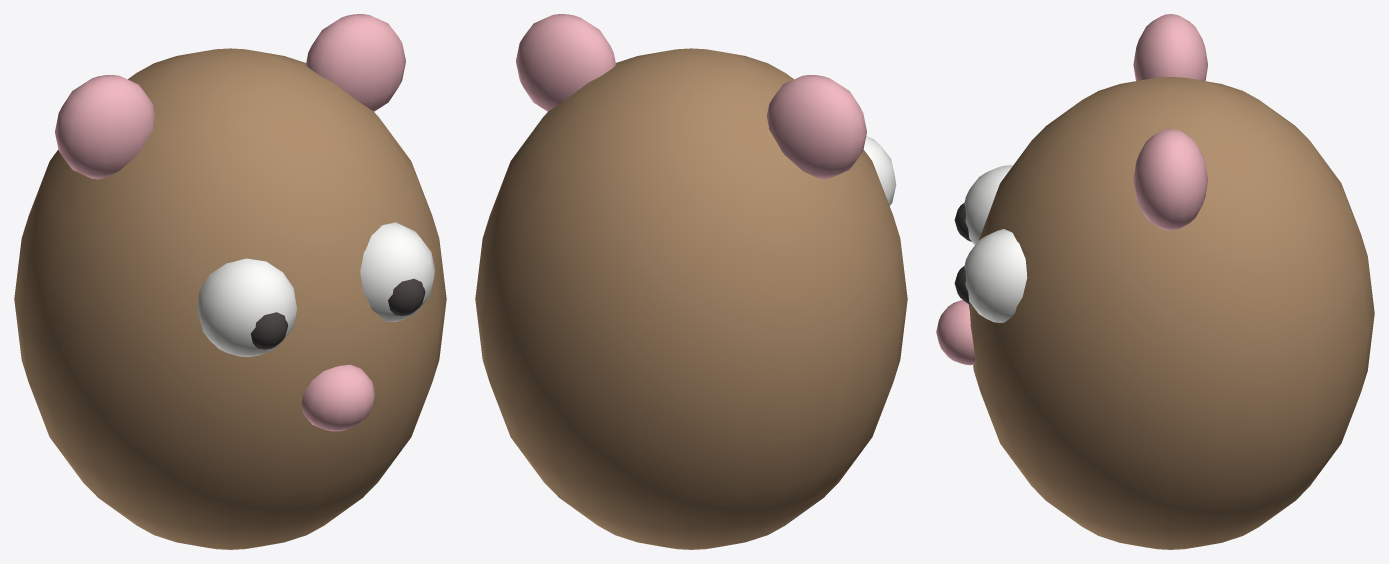
Rendered from Mole.fbx.
The picture shows the model from 3 angles, left to right: view 1: azimuth 30°, elevation 25°; view 2: azimuth 150°, elevation 25°; view 3: azimuth 270°, elevation 25°; orthographic projection. The views are drawn at different scales.
Parts seen in each view (by area): view 1: Mole; view 2: Mole; view 3: Mole.
Boxes of the visible parts, x1=… form: Mole: x1=14, y1=14, x2=446, y2=549; Mole: x1=475, y1=14, x2=907, y2=549; Mole: x1=936, y1=14, x2=1374, y2=549.
Size of the model in its own units: 0.6 by 0.745 by 0.645.
